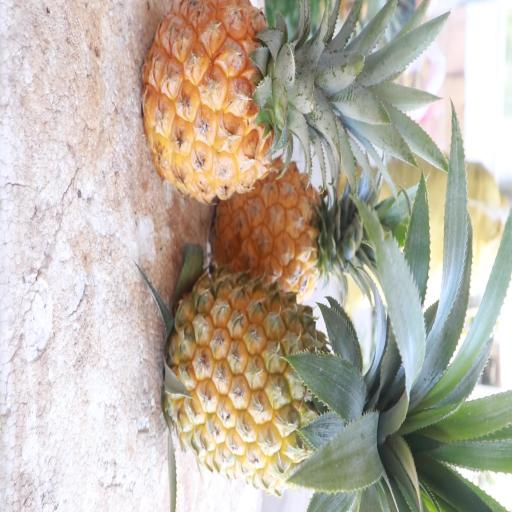Pineapple - v8 v1: (161, 256, 388, 500), (139, 0, 357, 210), (210, 159, 380, 300)
